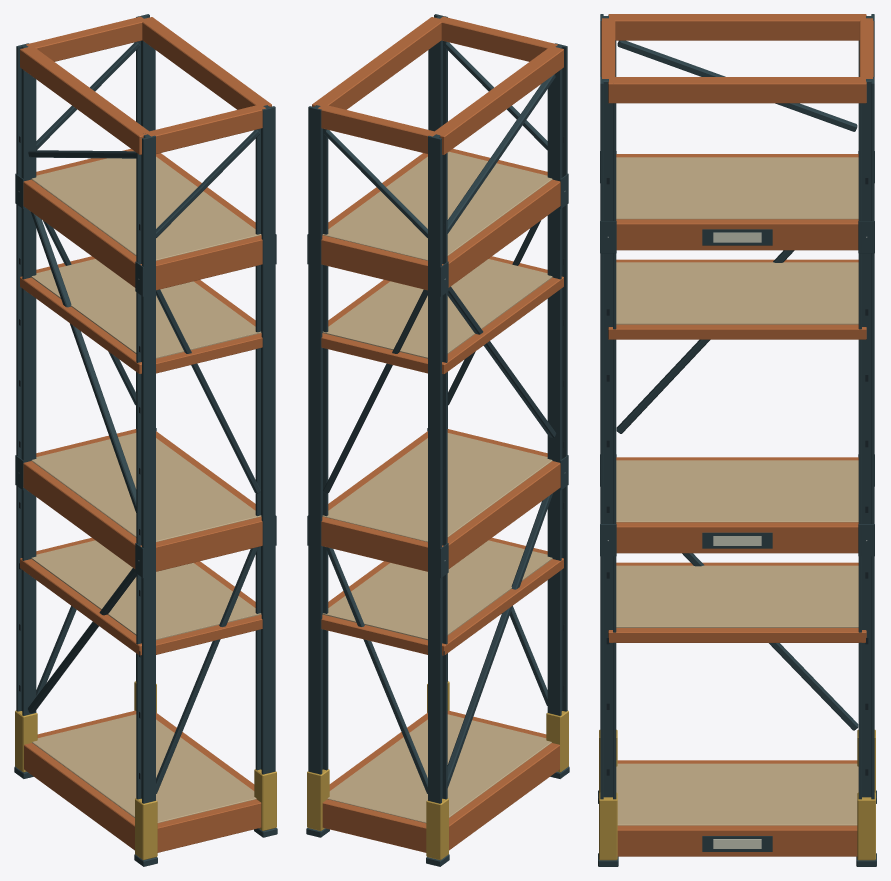
File: rack-high.glb
The picture shows the model from 3 angles, left to right: view 1: azimuth 30°, elevation 25°; view 2: azimuth 150°, elevation 25°; view 3: azimuth 270°, elevation 25°; orthographic projection. The views are drawn at different scales.
Parts seen in each view (by area): view 1: rack-high__material_01, rack-high__material_05, rack-high__material_03, rack-high__material_06; view 2: rack-high__material_01, rack-high__material_05, rack-high__material_03, rack-high__material_06; view 3: rack-high__material_05, rack-high__material_03, rack-high__material_01, rack-high__material_06, rack-high__material_00.
Boxes of the visible parts, box(x1,y1,x2,y2) form: rack-high__material_01: box(14, 14, 277, 866); rack-high__material_05: box(31, 156, 261, 823); rack-high__material_03: box(20, 16, 271, 852); rack-high__material_06: box(15, 681, 276, 860); rack-high__material_01: box(306, 14, 569, 866); rack-high__material_05: box(322, 151, 552, 823); rack-high__material_03: box(312, 16, 563, 852); rack-high__material_06: box(307, 681, 568, 860); rack-high__material_05: box(616, 157, 858, 825); rack-high__material_03: box(601, 14, 873, 856); rack-high__material_01: box(598, 14, 876, 866); rack-high__material_06: box(599, 729, 875, 860); rack-high__material_00: box(713, 232, 761, 848).
Bounding box in the file's own units: 0.9 × 4.65 × 1.5.
